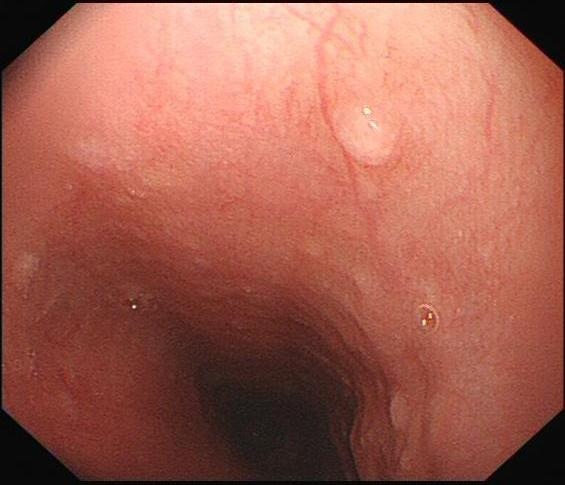Polyp: (325, 105, 404, 176)
